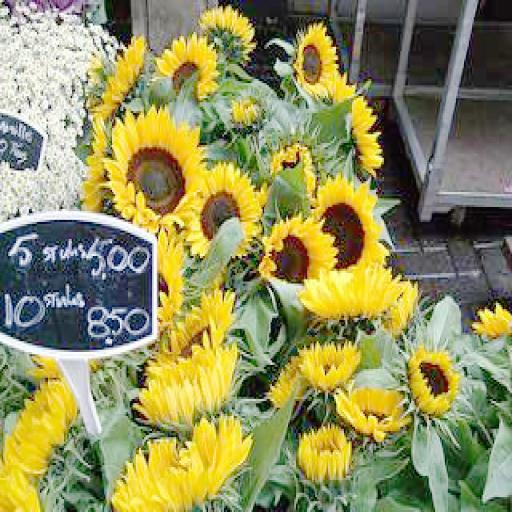sunflower: (104, 104, 210, 237), (314, 175, 387, 273), (192, 167, 259, 258), (259, 216, 336, 290), (334, 382, 408, 439), (155, 34, 219, 98), (406, 343, 460, 412), (294, 21, 338, 94)
